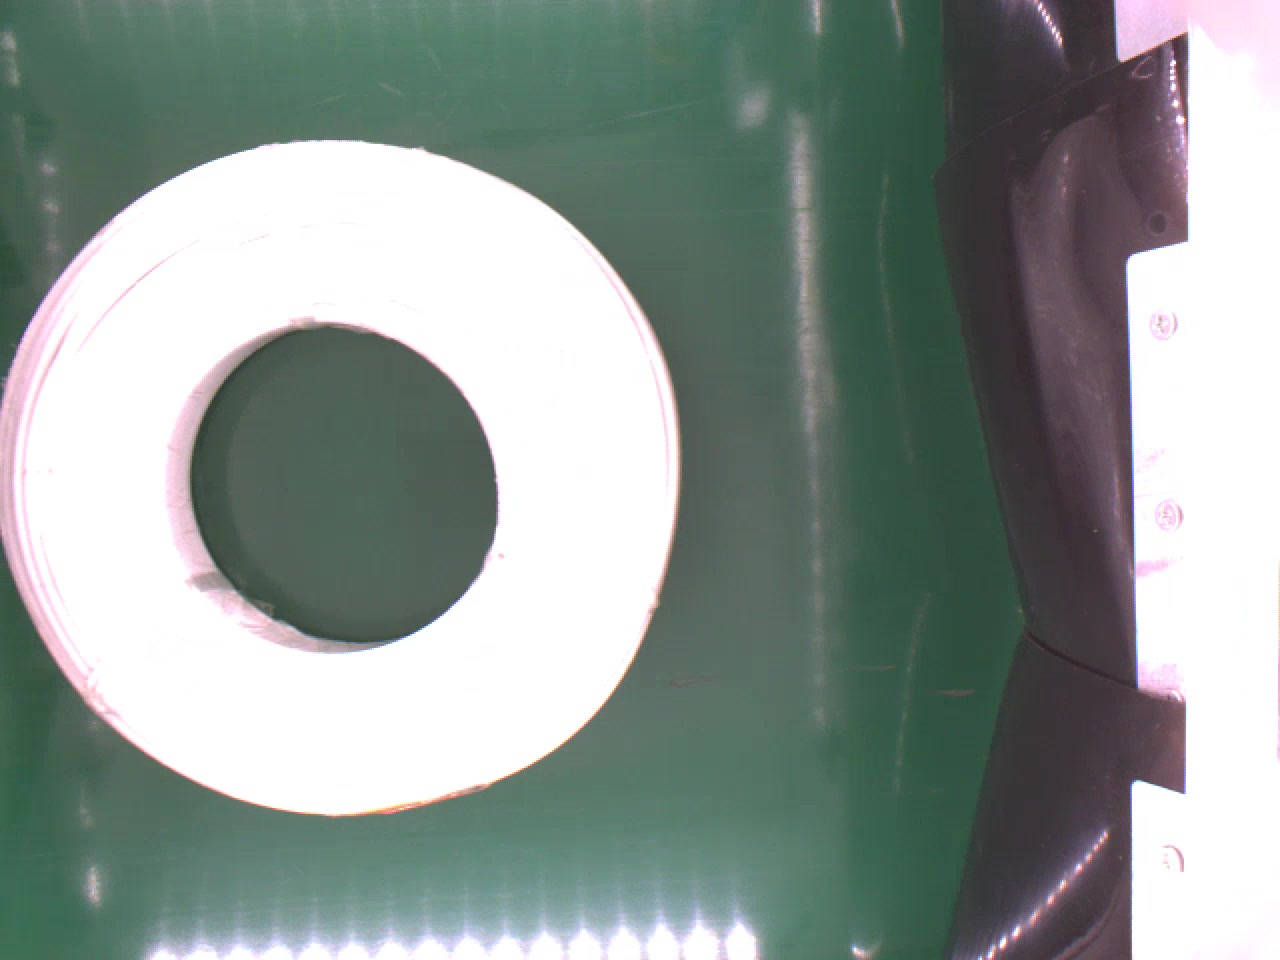white: (1, 134, 687, 821)
